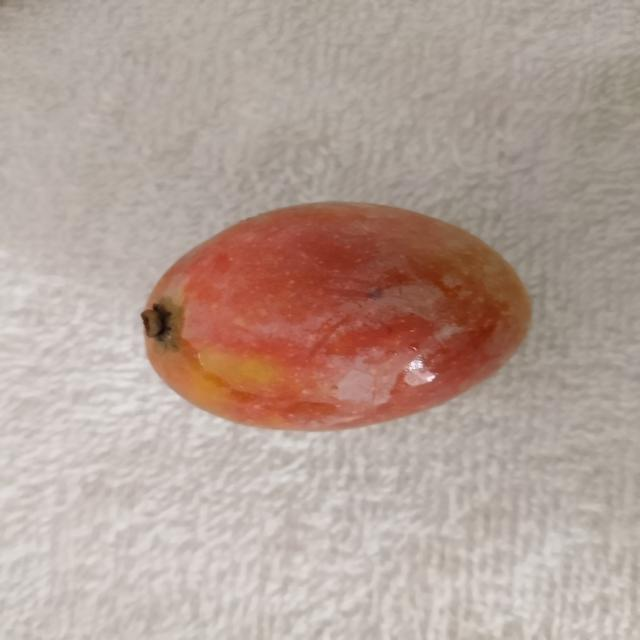mango: (134, 198, 537, 436)
